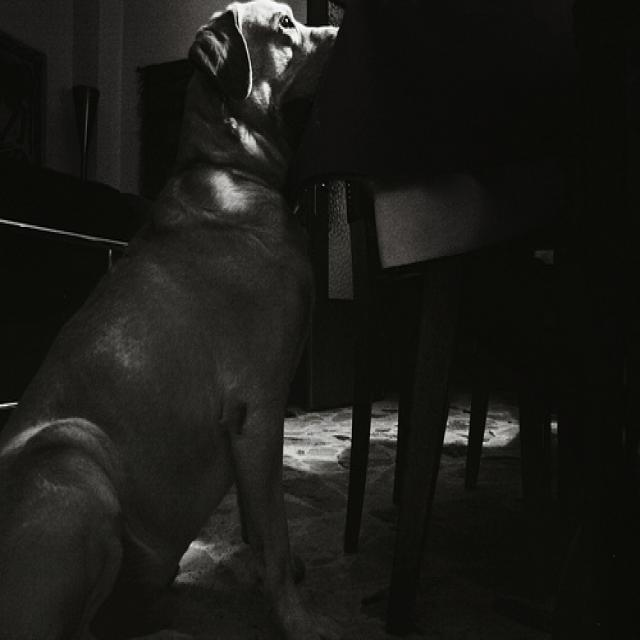Dog: (113, 0, 412, 558)
